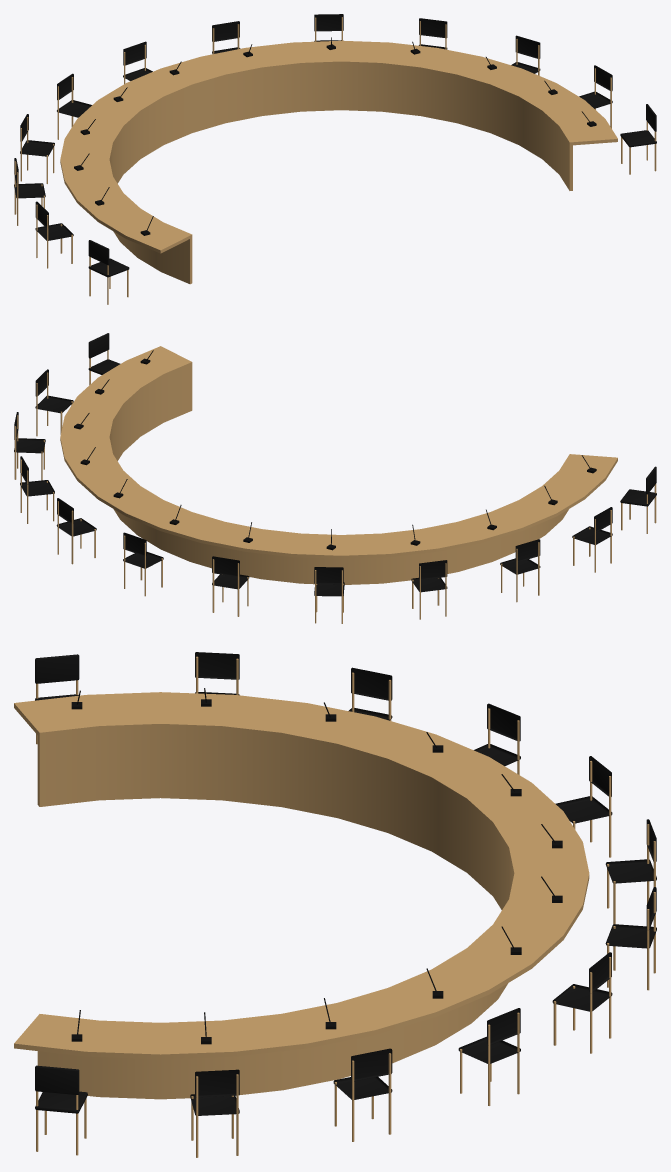
The model's file is office.council.horseshoe.glb.
The picture shows the model from 3 angles, top to bottom: view 1: azimuth 30°, elevation 25°; view 2: azimuth 150°, elevation 25°; view 3: azimuth 270°, elevation 25°; orthographic projection. The views are drawn at different scales.
Visible parts, largest first — view 1: desk__glulam, seats__leather_black, seats__glulam, seats__plastic_black; view 2: desk__glulam, seats__leather_black, seats__glulam, seats__plastic_black; view 3: desk__glulam, seats__leather_black, seats__glulam, seats__plastic_black.
Boxes of the visible parts, bbox=[...] form: desk__glulam: bbox=[60, 40, 617, 284]; seats__leather_black: bbox=[14, 14, 656, 277]; seats__glulam: bbox=[14, 17, 656, 304]; seats__plastic_black: bbox=[74, 37, 596, 235]; desk__glulam: bbox=[60, 346, 617, 584]; seats__leather_black: bbox=[14, 333, 656, 596]; seats__glulam: bbox=[14, 350, 656, 623]; seats__plastic_black: bbox=[74, 350, 596, 550]; desk__glulam: bbox=[14, 692, 589, 1099]; seats__leather_black: bbox=[35, 652, 656, 1115]; seats__glulam: bbox=[36, 656, 655, 1157]; seats__plastic_black: bbox=[71, 688, 562, 1044].
Size of the model in its own units: 9.3 by 1 by 6.
